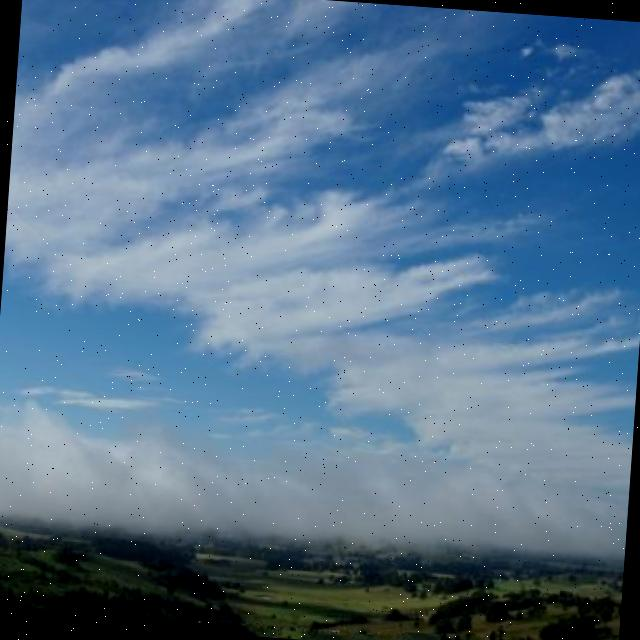As: (1, 39, 640, 476)
